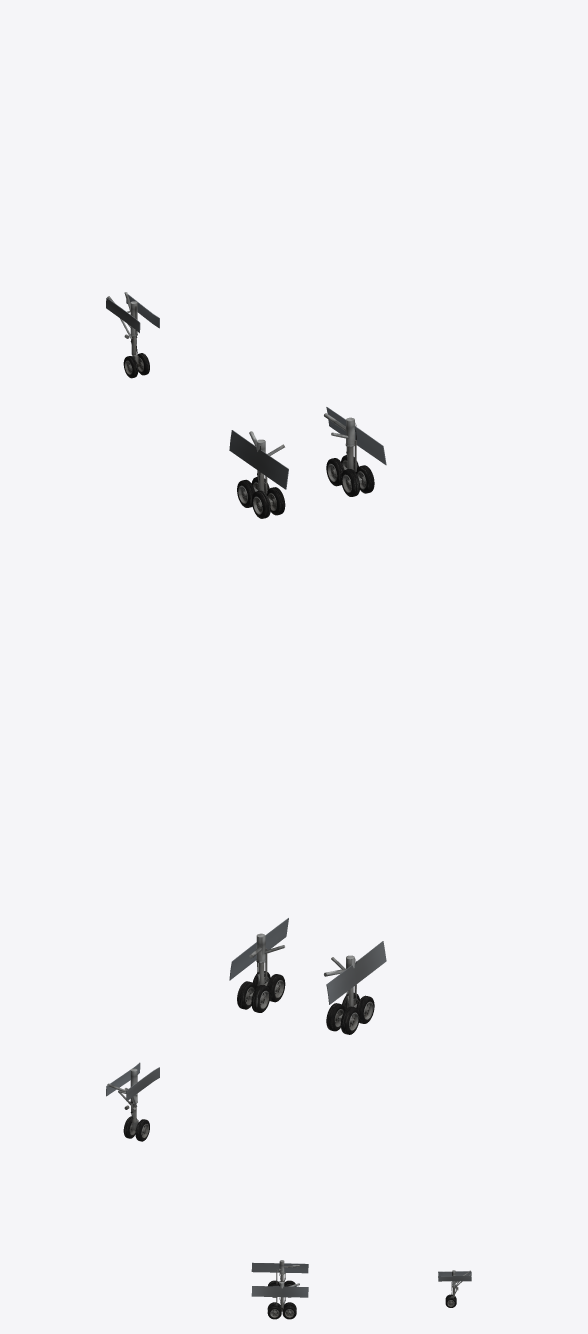
Rendered from b1b_gear.glb.
3 renders of one model, top to bottom at view 1: azimuth 30°, elevation 25°; view 2: azimuth 150°, elevation 25°; view 3: azimuth 270°, elevation 25°, orthographic. The views are drawn at different scales.
Visible parts, largest first — view 1: gear_m_r, gear_m_l, door_m_l, gear_n, door_m_r; view 2: gear_m_r, gear_m_l, door_m_l, gear_n, door_m_r; view 3: door_m_r, gear_m_r, door_m_l, gear_m_l, gear_n.
Part boxes in pixels (<box>): gear_m_r: <box>324,413,374,496</box>; gear_m_l: <box>237,431,285,518</box>; door_m_l: <box>229,430,288,489</box>; gear_n: <box>107,292,149,378</box>; door_m_r: <box>326,407,386,465</box>; gear_m_r: <box>237,933,285,1012</box>; gear_m_l: <box>324,955,374,1034</box>; door_m_l: <box>326,941,386,1004</box>; gear_n: <box>107,1068,149,1141</box>; door_m_r: <box>229,918,288,980</box>; door_m_r: <box>251,1286,308,1297</box>; gear_m_r: <box>267,1281,299,1319</box>; door_m_l: <box>251,1262,308,1273</box>; gear_m_l: <box>268,1260,299,1297</box>; gear_n: <box>445,1270,470,1307</box>.
Bounding box in the file's own units: 5.11 × 11.92 × 44.52.
1 material, 1 textured.
